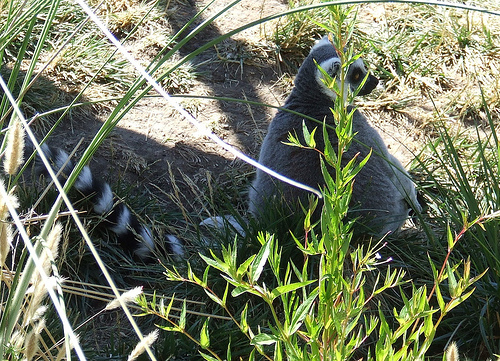cat: (37, 37, 416, 281)
